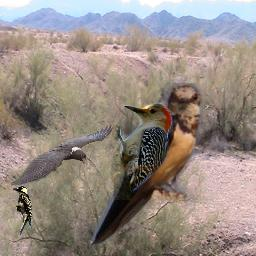Crow: (11, 123, 113, 186)
Swallow: (90, 83, 203, 251)
Woodpecker: (110, 98, 185, 200), (12, 186, 33, 236)
